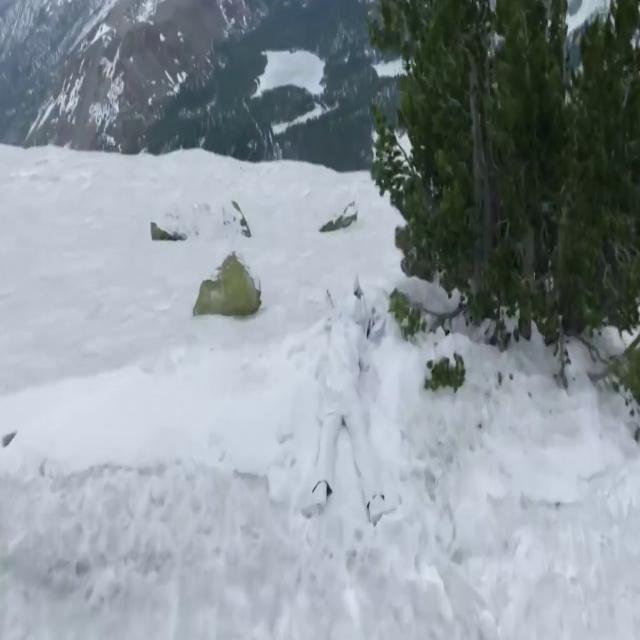Camouflage: (299, 271, 392, 523)
